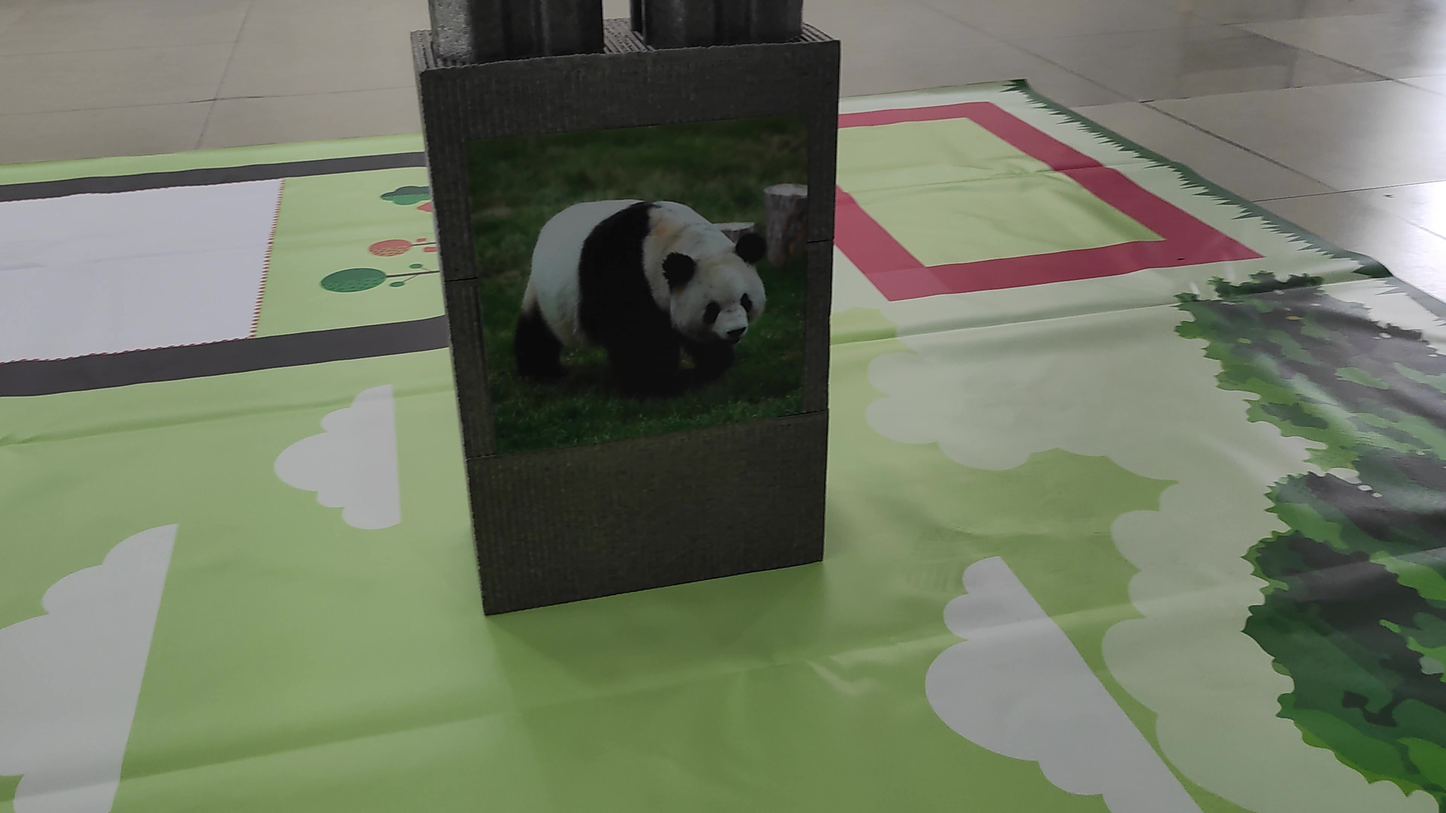panda: (478, 160, 793, 398)
